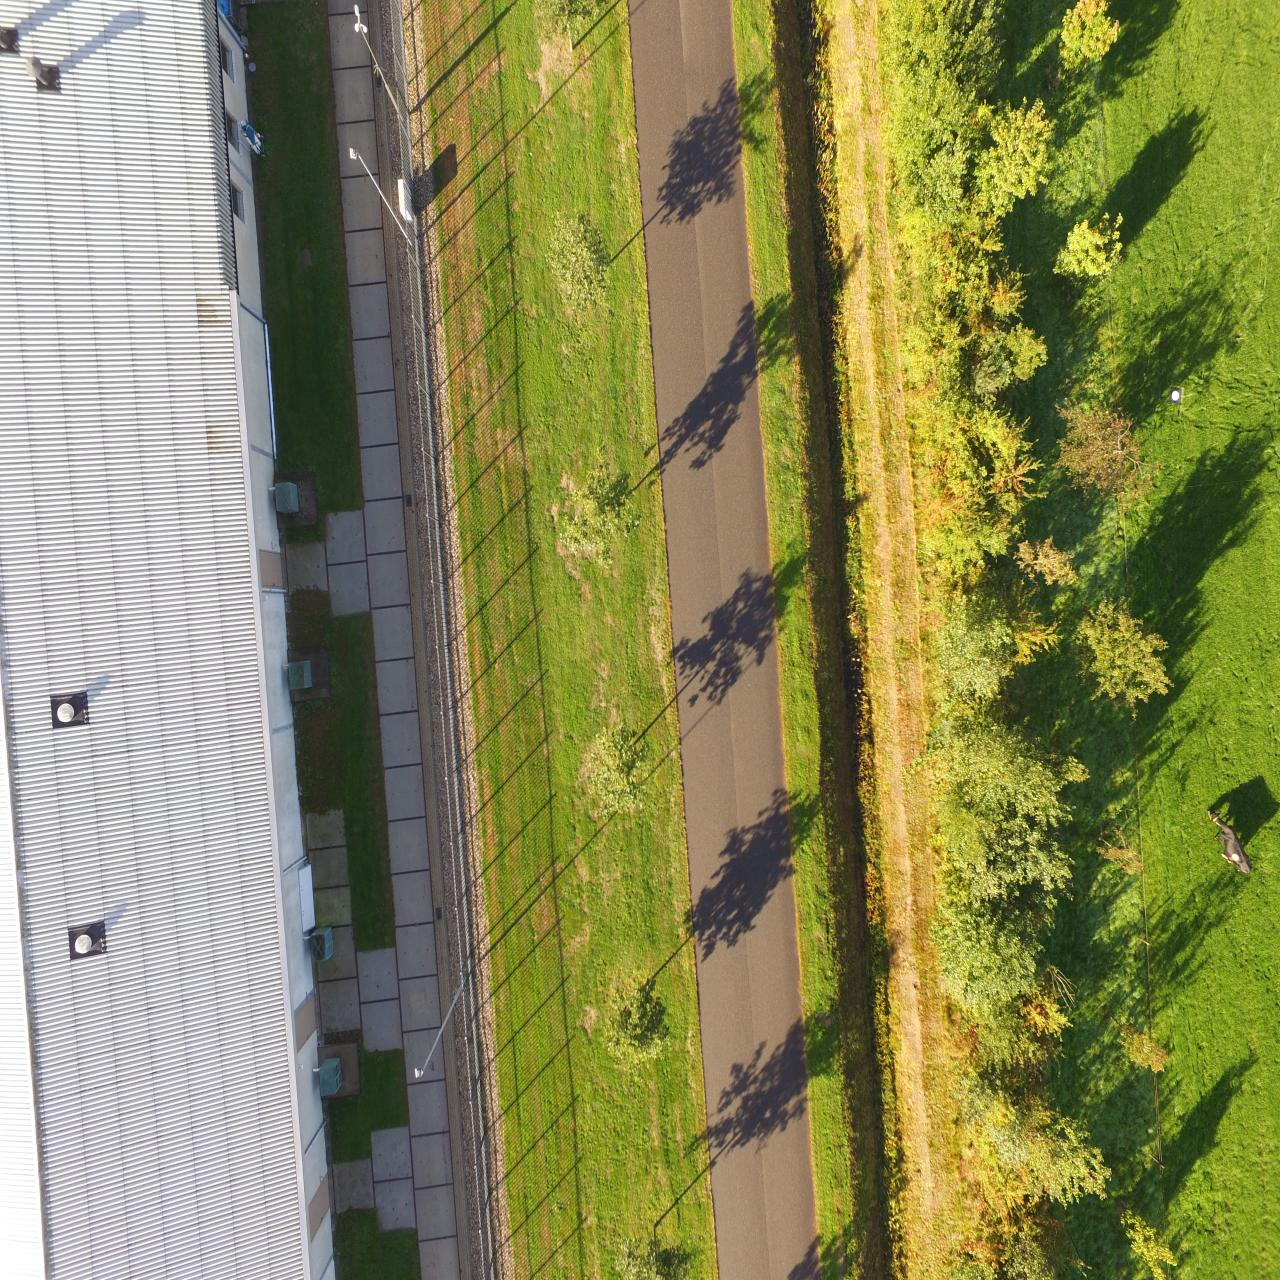cow: (1206, 806, 1254, 877)
